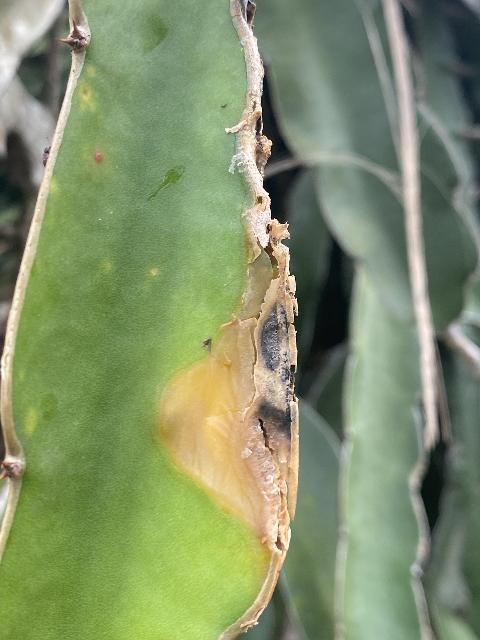stemcanker: (170, 89, 304, 555)
